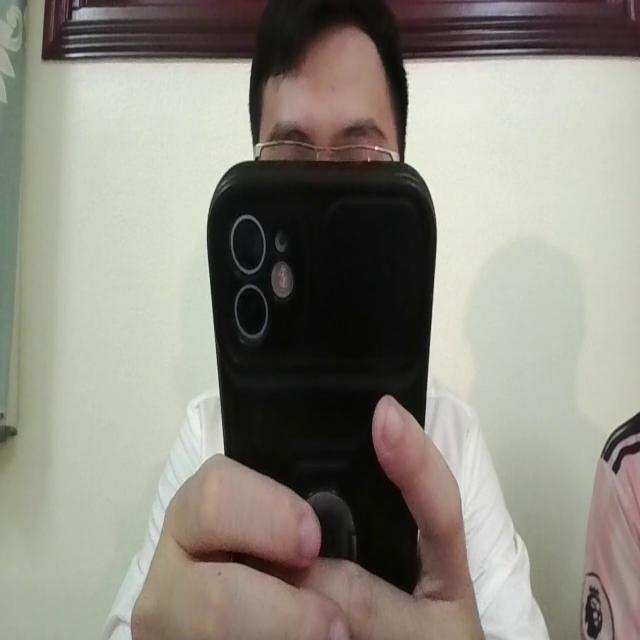phone: (199, 142, 441, 608)
student: (94, 0, 554, 640)
